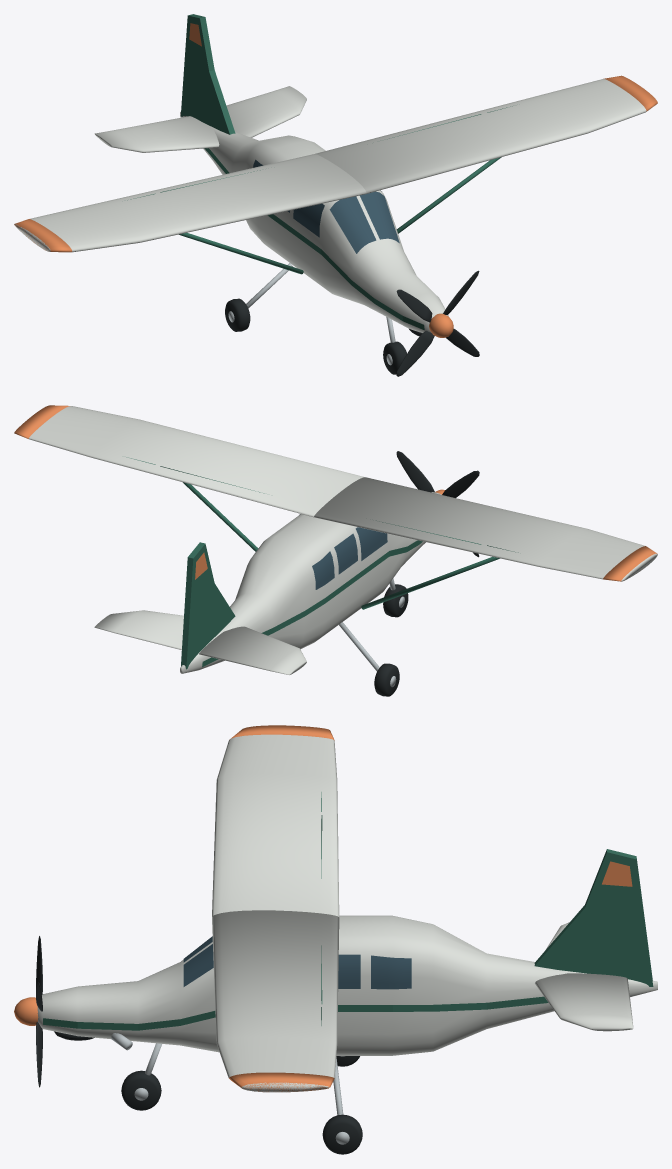
The model's file is cedar_turboprop_experimental.glb.
3 views of the same model, one above another, from view 1: azimuth 30°, elevation 25°; view 2: azimuth 150°, elevation 25°; view 3: azimuth 270°, elevation 25° (orthographic). The views are drawn at different scales.
Visible parts, largest first — view 1: Port high wing, Starboard high wing, Cedar fuselage | proposed CG at origin, Cedar green vertical fin, Starboard neutral tailplane, Port neutral tailplane, Starboard windshield, Starboard cedar belt, Port windshield, Starboard copper wingtip, Port copper wingtip, Starboard wing strut (+4 smaller); view 2: Port high wing, Starboard high wing, Cedar fuselage | proposed CG at origin, Cedar green vertical fin, Starboard neutral tailplane, Port neutral tailplane, Starboard cedar belt, Starboard wing strut, Starboard copper wingtip, Port copper wingtip, Starboard main tyre, Starboard pilot side window (+6 smaller); view 3: Cedar fuselage | proposed CG at origin, Starboard high wing, Port high wing, Cedar green vertical fin, Port neutral tailplane, Port cedar belt, Port copper wingtip, Port cargo window, Port main tyre, Nose tyre, Starboard copper wingtip, Port cabin window (+1 smaller).
Boxes of the visible parts, <box> form: Port high wing: <box>315,79,646,193</box>; Starboard high wing: <box>14,154,366,252</box>; Cedar fuselage | proposed CG at origin: <box>180,112,448,332</box>; Cedar green vertical fin: <box>180,14,235,134</box>; Starboard neutral tailplane: <box>94,116,219,152</box>; Port neutral tailplane: <box>226,86,306,137</box>; Starboard windshield: <box>329,196,376,253</box>; Starboard cedar belt: <box>204,148,424,330</box>; Port windshield: <box>360,191,399,243</box>; Starboard copper wingtip: <box>14,219,72,252</box>; Port copper wingtip: <box>603,75,657,111</box>; Starboard wing strut: <box>179,233,303,274</box>; Port high wing: <box>28,406,364,517</box>; Starboard high wing: <box>314,477,657,581</box>; Cedar fuselage | proposed CG at origin: <box>180,492,441,673</box>; Cedar green vertical fin: <box>181,542,235,669</box>; Starboard neutral tailplane: <box>199,626,306,674</box>; Port neutral tailplane: <box>94,610,183,649</box>; Starboard cedar belt: <box>202,540,422,667</box>; Starboard wing strut: <box>361,556,499,609</box>; Starboard copper wingtip: <box>603,546,657,581</box>; Port copper wingtip: <box>14,405,69,438</box>; Starboard main tyre: <box>374,663,399,696</box>; Starboard pilot side window: <box>355,527,387,560</box>; Cedar fuselage | proposed CG at origin: <box>37,915,657,1055</box>; Starboard high wing: <box>212,734,339,916</box>; Port high wing: <box>212,910,339,1092</box>; Cedar green vertical fin: <box>534,849,653,986</box>; Port neutral tailplane: <box>535,973,633,1031</box>; Port cedar belt: <box>43,996,548,1030</box>; Port copper wingtip: <box>229,1072,334,1092</box>; Port cargo window: <box>371,955,411,989</box>; Port main tyre: <box>322,1114,362,1154</box>; Nose tyre: <box>121,1070,161,1110</box>; Starboard copper wingtip: <box>229,725,334,740</box>; Port cabin window: <box>338,954,360,988</box>.
Bounding box in the file's own units: 12.6 × 4.25 × 9.6.
